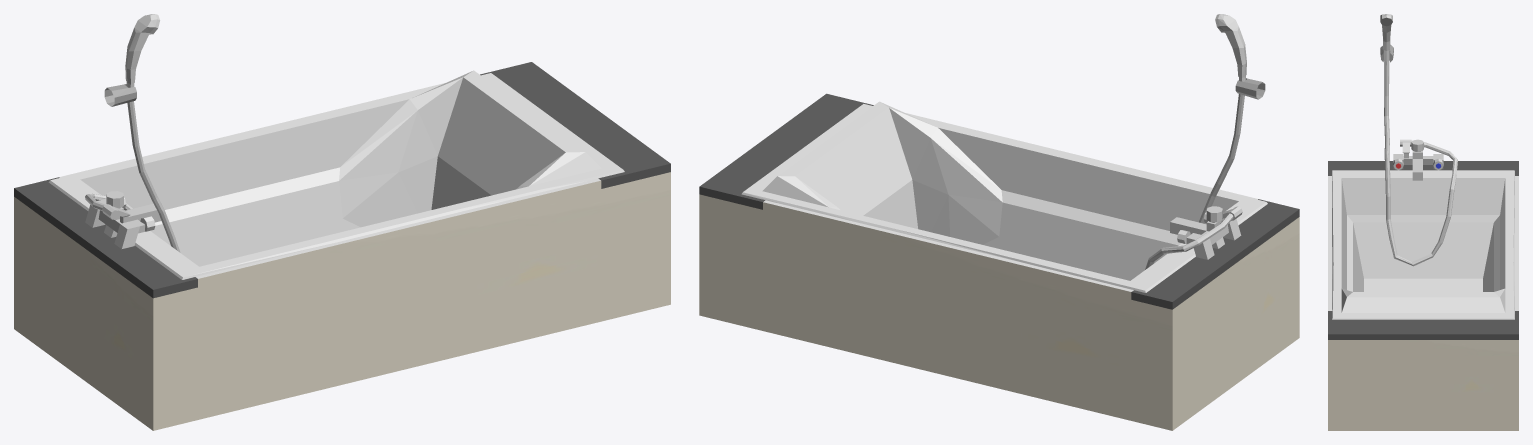
The model's file is bath_0406.fbx.
3 views of the same model, side by side, from view 1: azimuth 30°, elevation 25°; view 2: azimuth 150°, elevation 25°; view 3: azimuth 270°, elevation 25° (orthographic). The views are drawn at different scales.
Parts seen in each view (by area): view 1: Box002; view 2: Box002; view 3: Box002.
Boxes of the visible parts, x1,y1,x2,y2 form: Box002: [14, 14, 670, 430]; Box002: [699, 14, 1299, 430]; Box002: [1328, 14, 1518, 430].
Bounding box in the file's own units: 434 × 300 × 202.
1 material, 1 textured.
